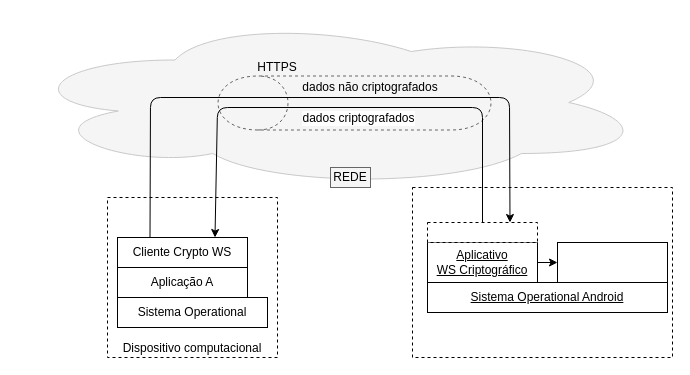
Some shapes in this 690 by 375 pixel diagram are drawn without their labels. The shapes that lost their labels are listed below. From the top down, each one's box as (x1, y1, x2, y2) in pixels, then its label:
(426, 222, 538, 242): Rest API
(412, 186, 672, 358): Dispositivo móvel / Servidor criptográfico
(556, 242, 668, 282): Aplicativo Open KeyChain
